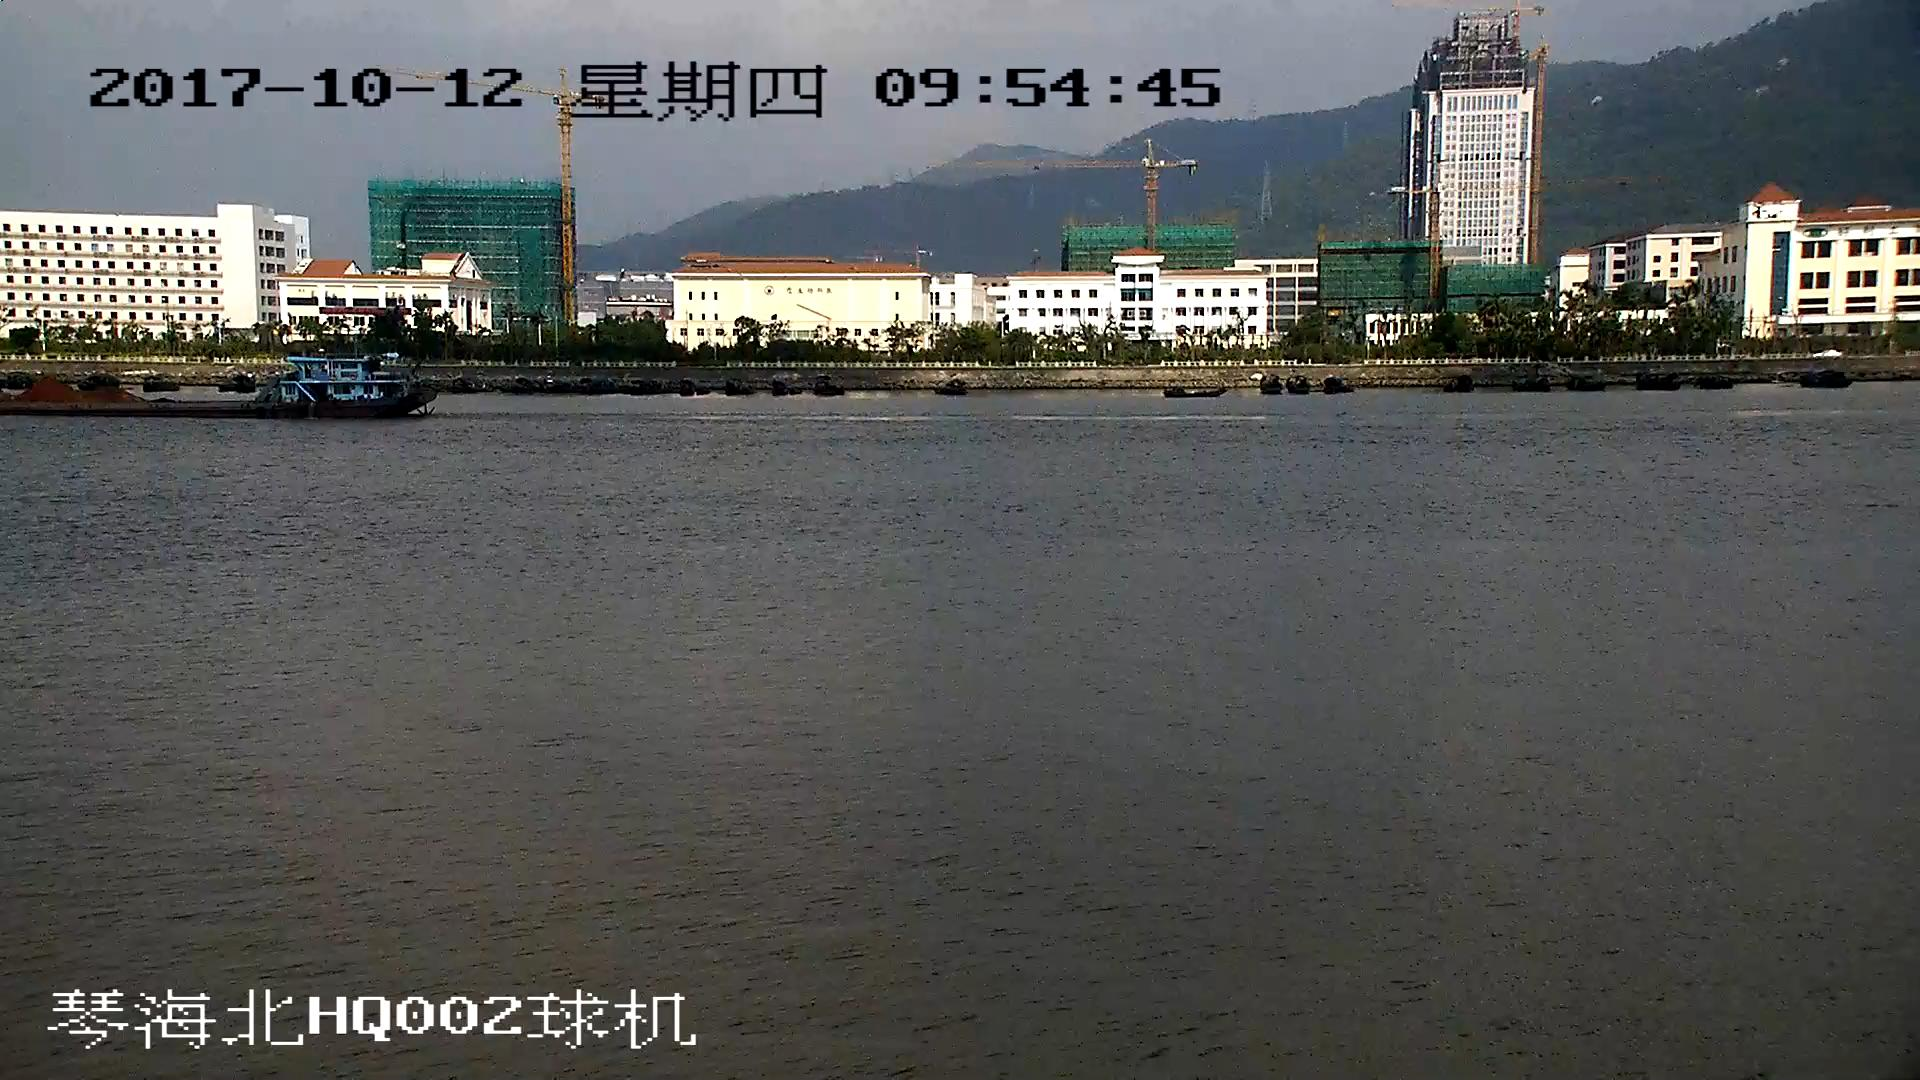ore carrier: (1, 360, 438, 420)
